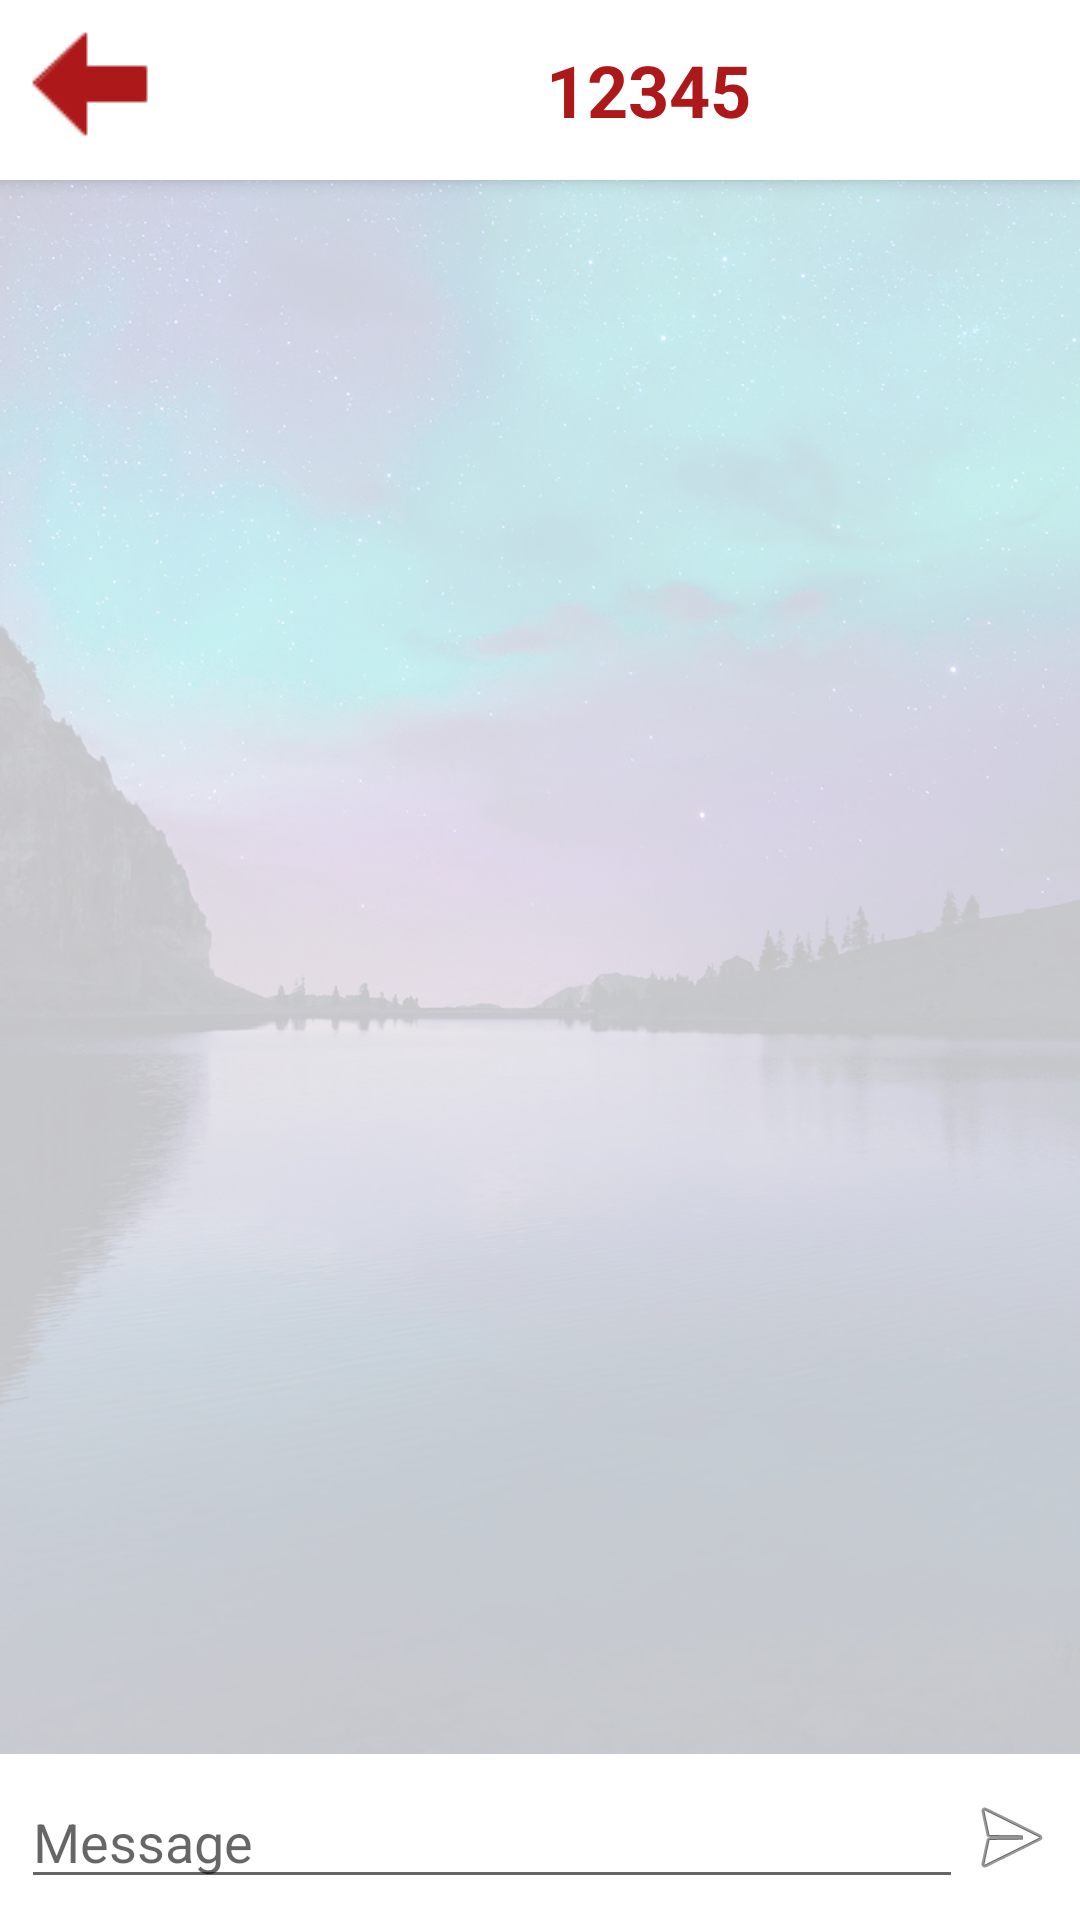

Where to tap for icons on this 1080px x 1920px app screen, as (x=x, y=y):
send: (x=1012, y=1837)
